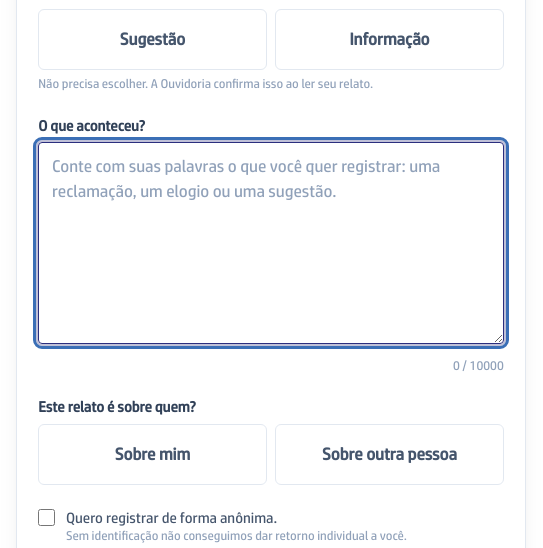
Test: a pergunta de quem é o relato (issue #666) › Sobre outra pessoa mostra os dois campos e o aviso de por que preencher
(page scrolled)
Step 1. Replace the text in the text box labelled "O que aconteceu?" with "Minha mãe esperou duas horas na recepção." → (271, 243), box [38, 142, 504, 344]
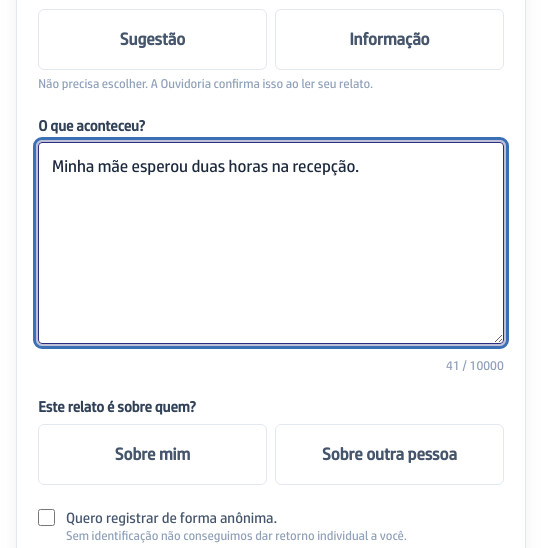
Step 2. Click the button "Sobre outra pessoa" → click(390, 455), box [275, 424, 504, 485]
(page scrolled)
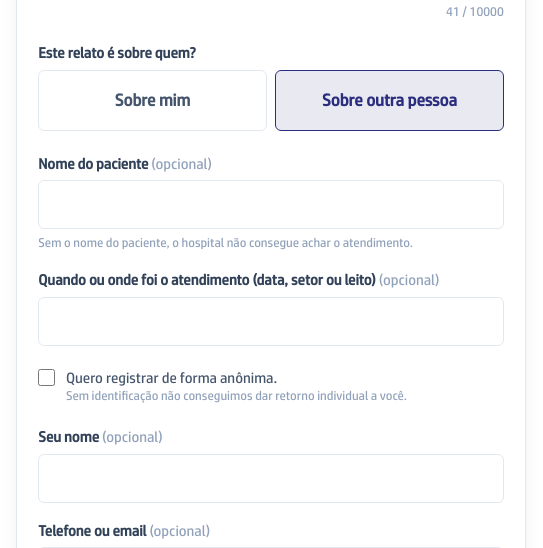
Result: the field labelled "Nome do paciente (opcional)" is shown at [38, 180, 504, 229]
Result: the field labelled "Quando ou onde foi o atendimento" is shown at [38, 297, 504, 346]
Result: the text "Sem o nome do paciente, o hospital não consegue achar o atendimento." is shown at [38, 235, 413, 250]
